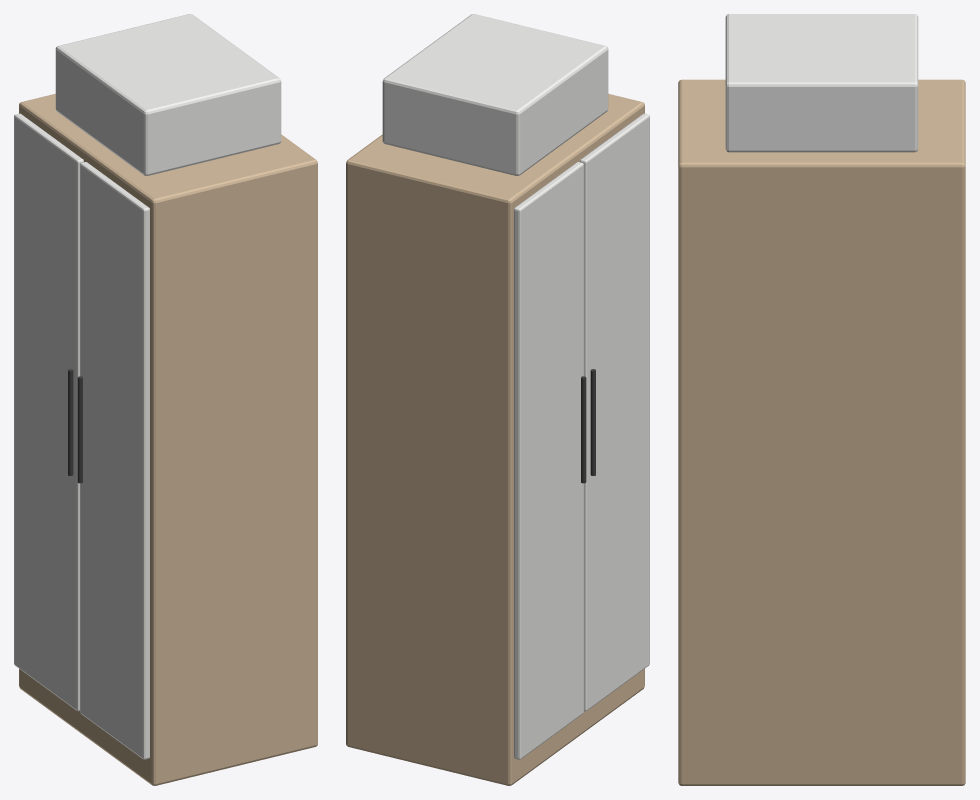
Rendered from furniture_wardrobe.fbx.
3 renders of one model, left to right at view 1: azimuth 30°, elevation 25°; view 2: azimuth 150°, elevation 25°; view 3: azimuth 270°, elevation 25°, orthographic. The views are drawn at different scales.
Parts seen in each view (by area): view 1: Lemari_Body, Lemari_Pintu_Depan, Lemari_Pintu_Belakang, Kotak_Penyimpanan_Atas, Lemari_Handle_1, Lemari_Handle_2; view 2: Lemari_Body, Lemari_Pintu_Belakang, Lemari_Pintu_Depan, Kotak_Penyimpanan_Atas, Lemari_Handle_2, Lemari_Handle_1; view 3: Lemari_Body, Kotak_Penyimpanan_Atas.
Part boxes in pixels (<box>): Lemari_Body: <box>19,94,317,785</box>; Lemari_Pintu_Depan: <box>80,162,149,759</box>; Lemari_Pintu_Belakang: <box>14,113,83,711</box>; Kotak_Penyimpanan_Atas: <box>55,14,281,175</box>; Lemari_Handle_1: <box>77,376,82,483</box>; Lemari_Handle_2: <box>68,369,73,475</box>; Lemari_Body: <box>346,94,644,785</box>; Lemari_Pintu_Belakang: <box>514,162,583,759</box>; Lemari_Pintu_Depan: <box>580,113,649,711</box>; Kotak_Penyimpanan_Atas: <box>382,14,608,175</box>; Lemari_Handle_2: <box>581,376,586,483</box>; Lemari_Handle_1: <box>590,369,595,475</box>; Lemari_Body: <box>678,79,965,785</box>; Kotak_Penyimpanan_Atas: <box>725,14,918,152</box>.
Bounding box in the file's own units: 0.623 × 2.19 × 0.82.
